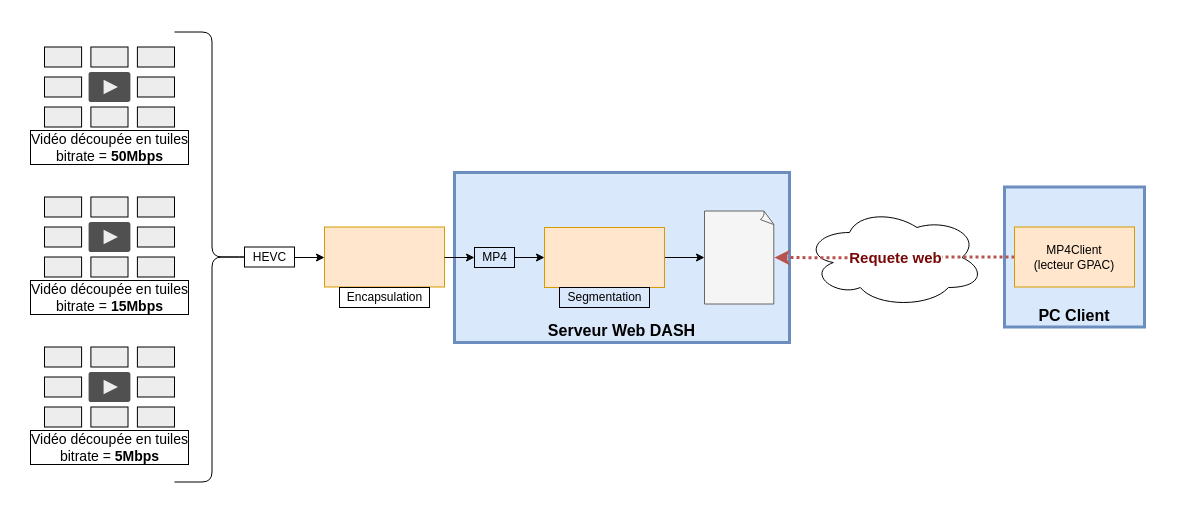
This 1191x514 diagram has some shape labels left out. Each missing label, with the box of its shape:
Decripteur de flux (.mpd): (704, 210, 774, 304)
MP4Box -add (GPAC): (324, 226, 444, 287)
MP4Box -dash (GPAC): (544, 226, 664, 288)
